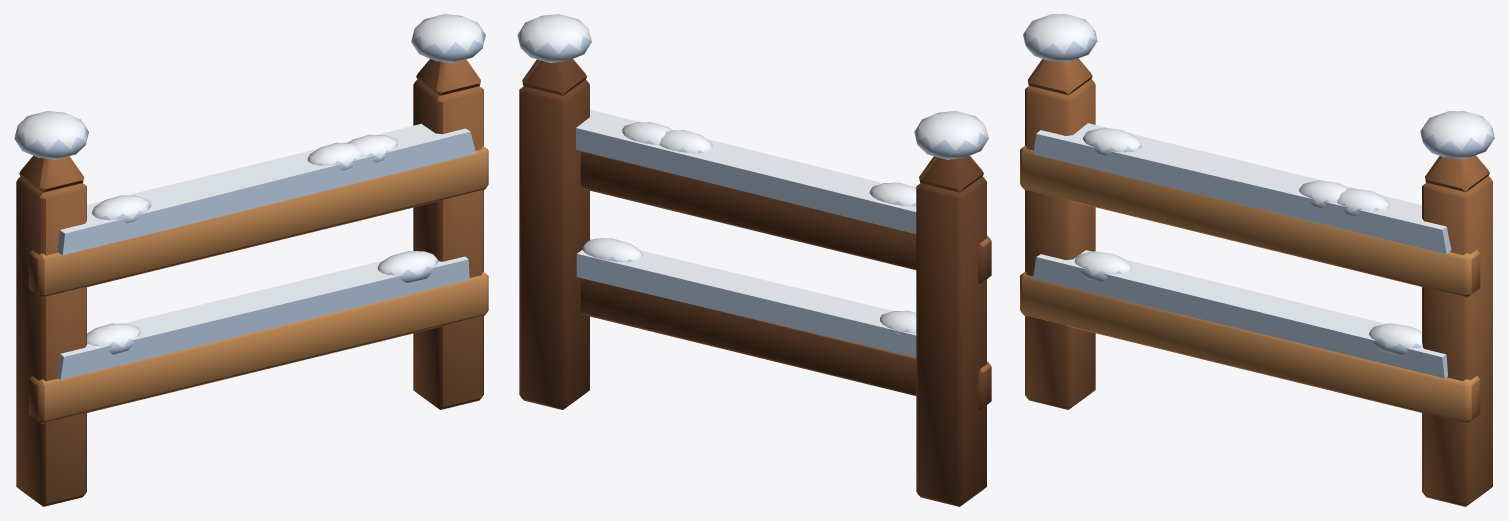
The model's file is WoodFence.fbx.
3 views of the same model, side by side, from view 1: azimuth 30°, elevation 25°; view 2: azimuth 150°, elevation 25°; view 3: azimuth 330°, elevation 25° (orthographic).
Visible parts, largest first — view 1: WoodFence; view 2: WoodFence; view 3: WoodFence.
Part boxes in pixels (x1,y1,x2,y2): WoodFence: [14, 14, 488, 506]; WoodFence: [517, 14, 991, 506]; WoodFence: [1020, 14, 1494, 506].
Size of the model in its own units: 1.53 by 1.2 by 0.223.
Materials: 1 (1 with a texture image).
